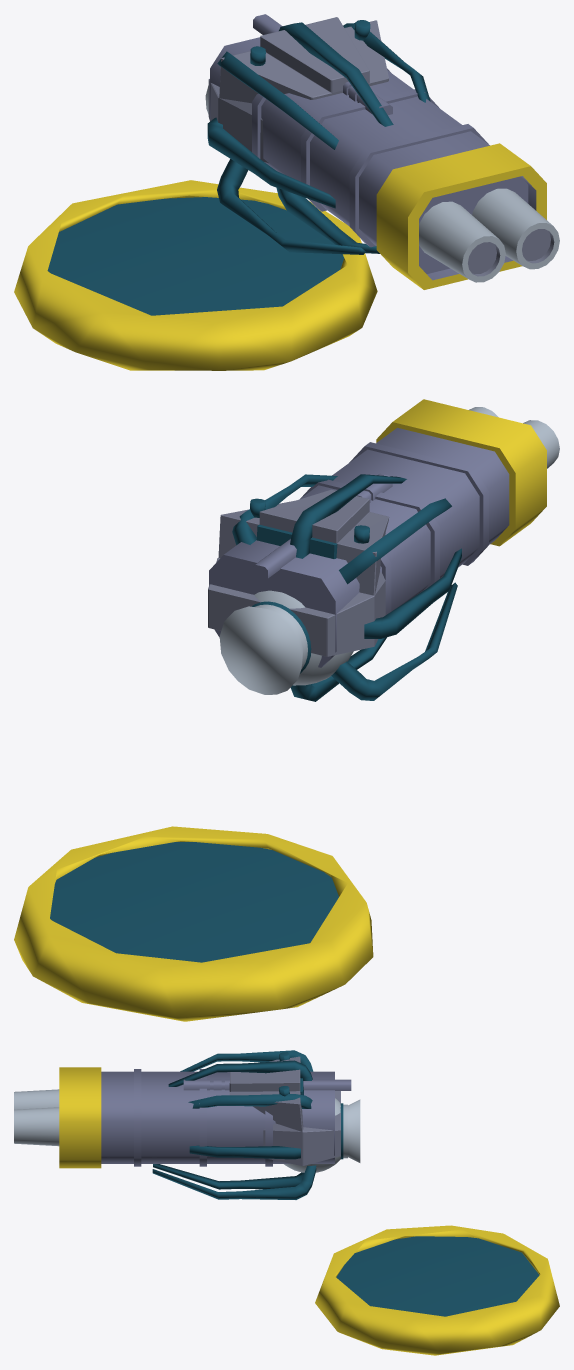
The model's file is AlienGun.fbx.
3 views of the same model, one above another, from view 1: azimuth 30°, elevation 25°; view 2: azimuth 150°, elevation 25°; view 3: azimuth 270°, elevation 25° (orthographic). The views are drawn at different scales.
Parts seen in each view (by area): view 1: Cylinder, Dulo3, AlienGun, PizzaGun; view 2: Cylinder, Dulo3, AlienGun, PizzaGun, LaserGun; view 3: Cylinder, Dulo3, AlienGun, PizzaGun, LaserGun.
Part boxes in pixels (x1,y1,x2,y2): Cylinder: (14, 180, 377, 370); Dulo3: (210, 14, 559, 289); AlienGun: (205, 22, 430, 254); PizzaGun: (208, 17, 388, 163); Cylinder: (14, 826, 373, 1021); Dulo3: (209, 399, 559, 667); AlienGun: (219, 474, 461, 701); PizzaGun: (208, 489, 389, 656); LaserGun: (251, 601, 311, 673); Cylinder: (315, 1225, 559, 1355); Dulo3: (14, 1067, 351, 1168); AlienGun: (152, 1050, 360, 1199); PizzaGun: (229, 1052, 340, 1165); LaserGun: (340, 1103, 347, 1159).
Size of the model in its own units: 193 by 210 by 430.
